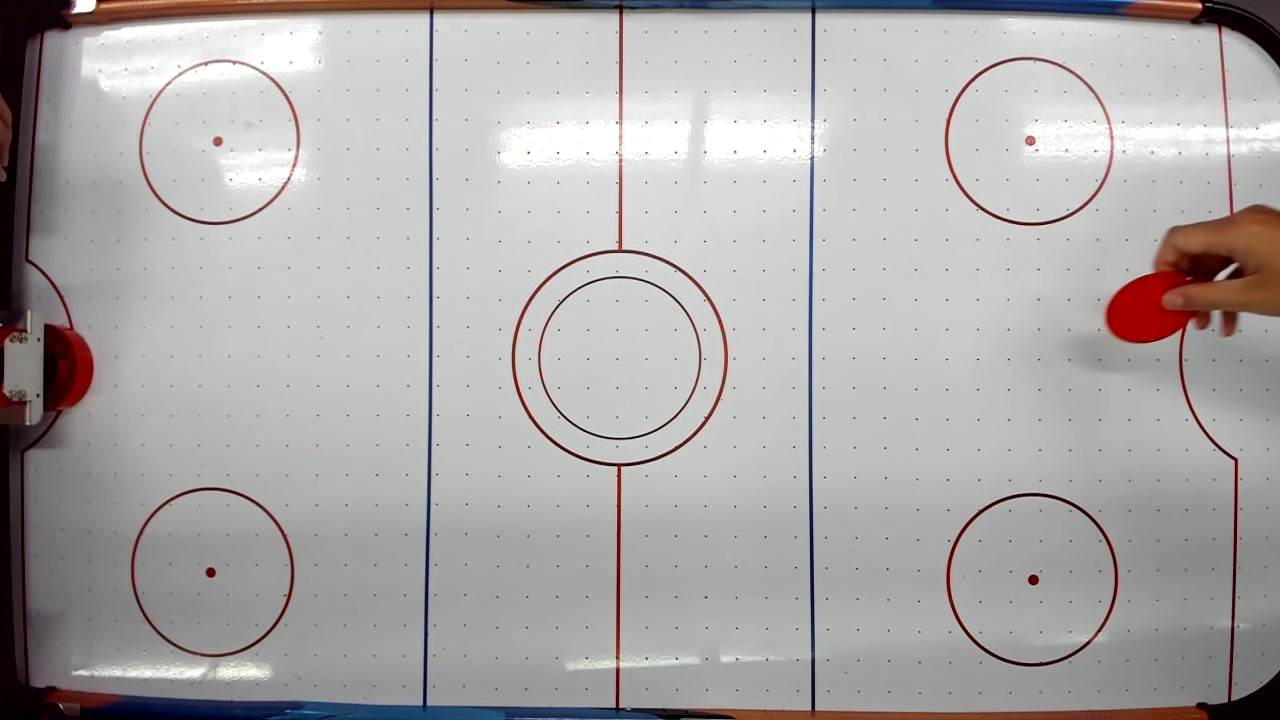ball: (1103, 269, 1187, 353)
